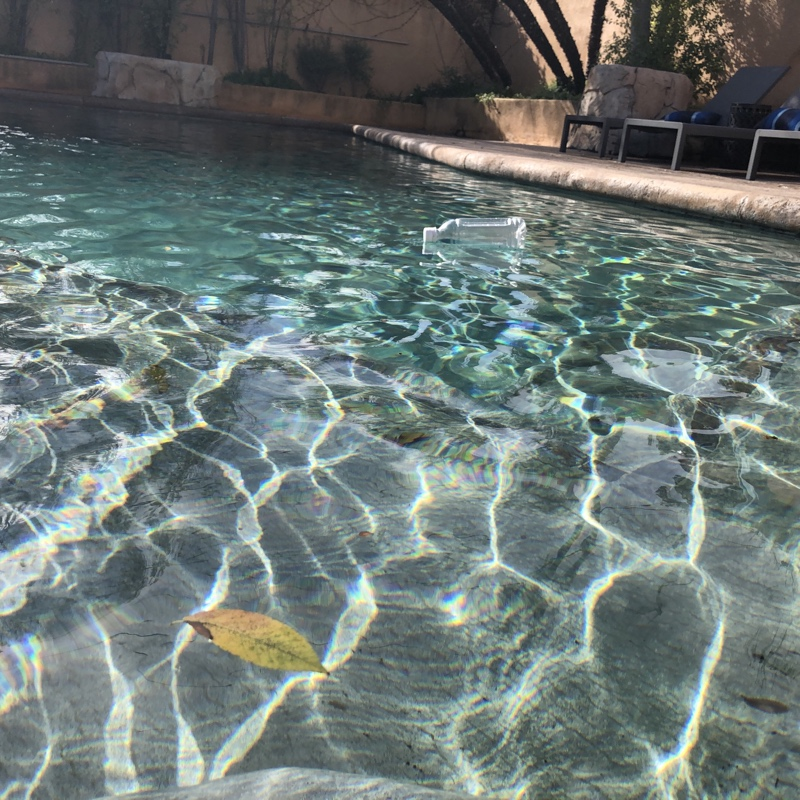Plastic Bottle: (419, 211, 534, 260)
